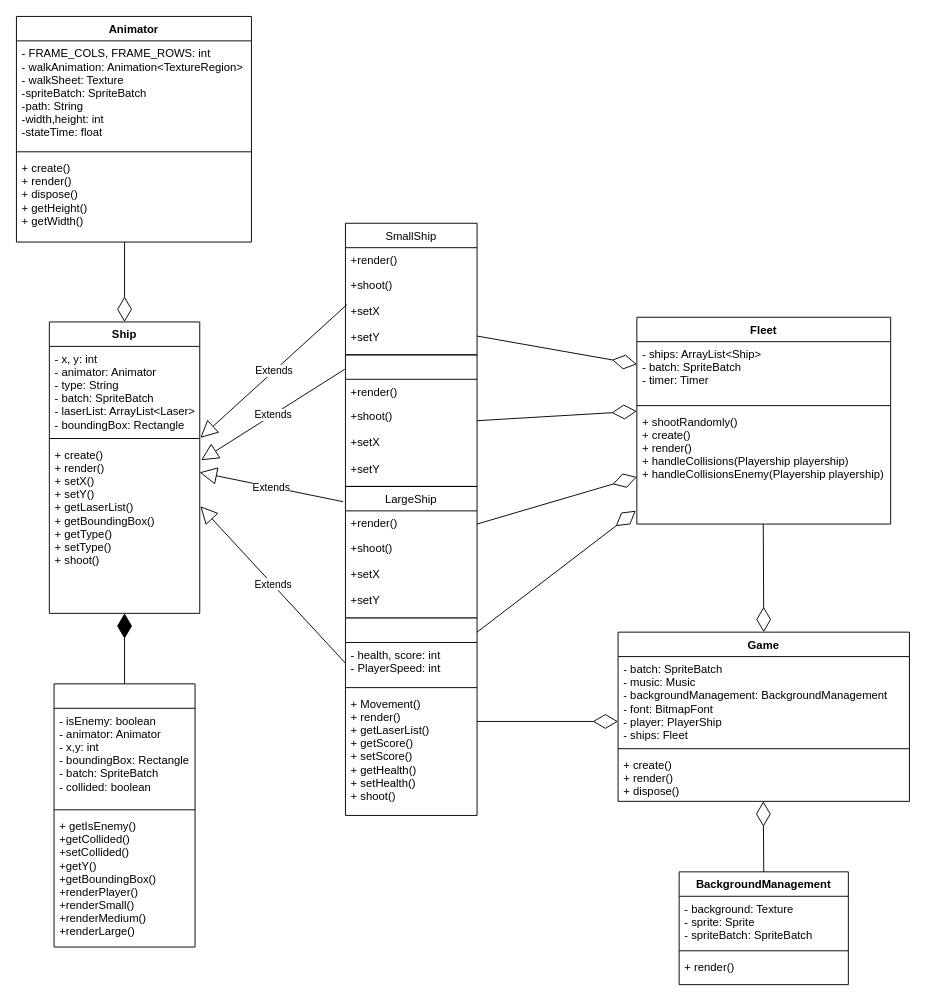
Image size: 926x1004. Some labels were removed from this diagram. Here are the shapes that lost their labels. From the top down, the box of each, then its label:
(345, 354, 477, 486): MediumShip
(345, 617, 477, 815): PlayerShip
(53, 683, 195, 947): Laser
